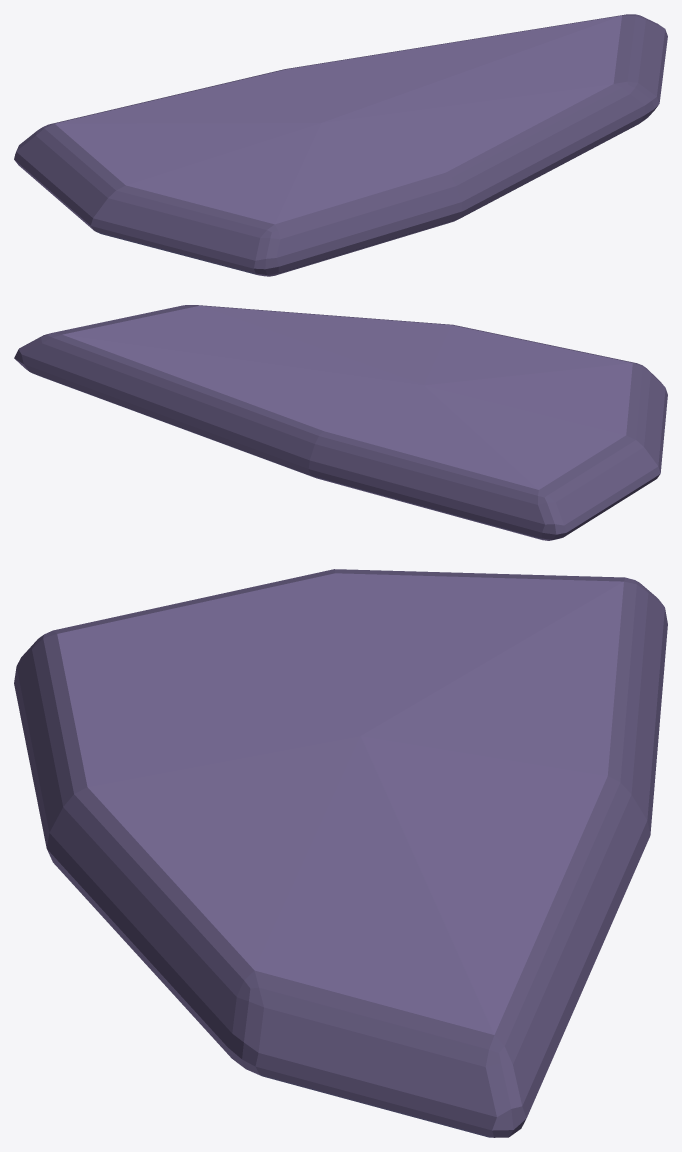
The model's file is flat_shard_03.glb.
The picture shows the model from 3 angles, top to bottom: view 1: azimuth 30°, elevation 25°; view 2: azimuth 150°, elevation 25°; view 3: azimuth 270°, elevation 25°; orthographic projection. The views are drawn at different scales.
Visible parts, largest first — view 1: flat_shard_03; view 2: flat_shard_03; view 3: flat_shard_03.
Boxes of the visible parts, box(x1,y1,x2,y2) form: flat_shard_03: box(14, 14, 667, 276); flat_shard_03: box(14, 305, 667, 540); flat_shard_03: box(14, 569, 667, 1137).
Bounding box in the file's own units: 0.7753 × 0.0666 × 0.3958.
